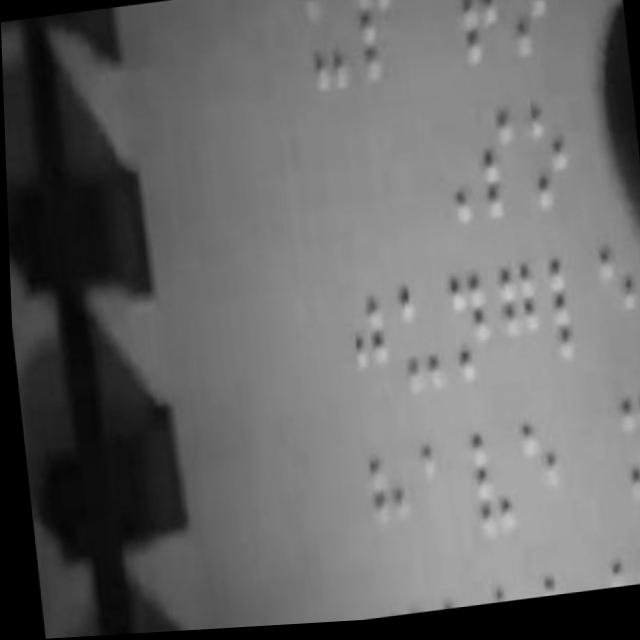braiile: (462, 91, 531, 232), (540, 246, 604, 378), (386, 273, 448, 402), (337, 286, 396, 418), (358, 442, 417, 573), (490, 259, 551, 384), (519, 97, 576, 226), (513, 413, 567, 541), (439, 268, 493, 395), (461, 425, 518, 544), (588, 245, 640, 373), (411, 438, 468, 553), (295, 0, 354, 111), (350, 0, 407, 91), (452, 0, 509, 85), (500, 0, 556, 71), (612, 390, 640, 509), (584, 554, 630, 597), (480, 574, 534, 609), (534, 567, 583, 603), (631, 544, 640, 591)
